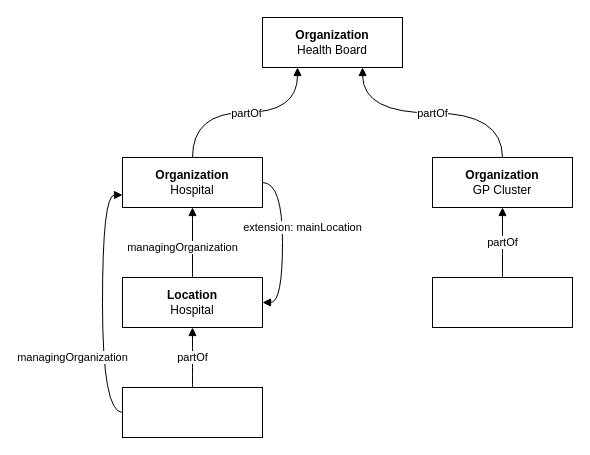
This 590x455 diagram has some shape labels left out. Here are the shapes that lost their labels. From the top down, the centre of each, then its label:
At pixel 502 302: "Organization GP Practice".
At pixel 192 412: "Location Ward/Site".
